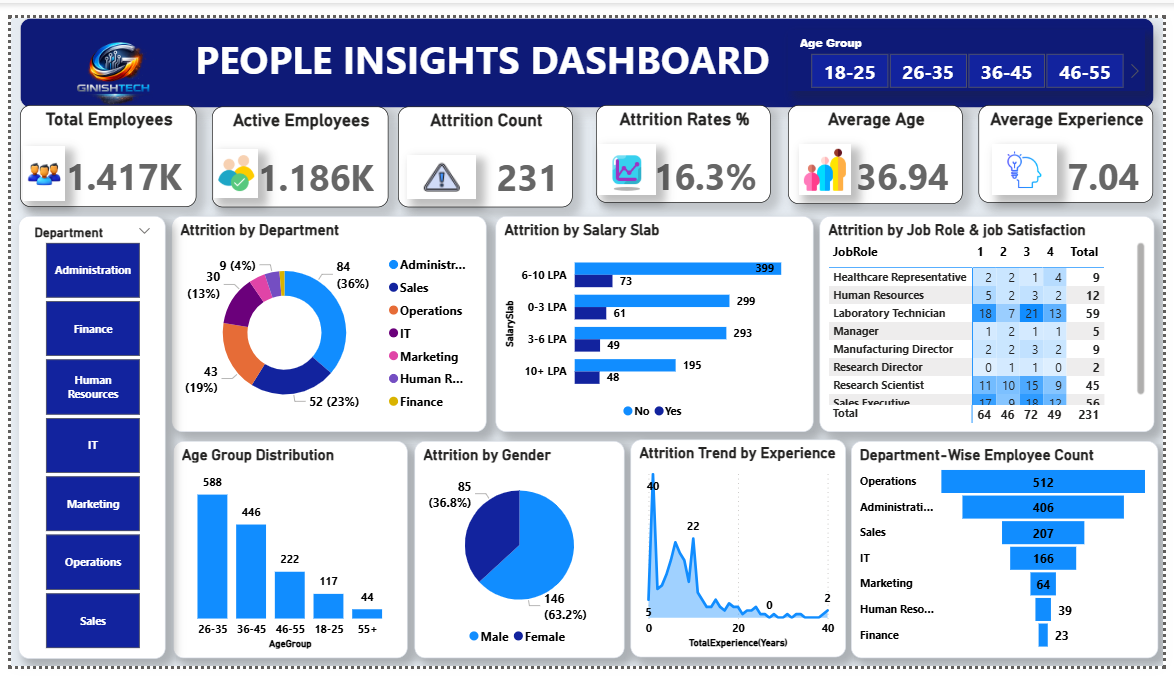

This screenshot's page, from the dashboard's own definition file:
{"tool":"powerbi","page":{"name":"DASHBOARD","canvas":[1280,720],"ordinal":0},"visuals":[{"type":"textbox","box":[9.5,0,1259.8,100.2],"z":0},{"type":"image","box":[8.6,0,215.5,119],"z":1000},{"type":"cardVisual","title":"Total Employees","fields":{"Data":["CountNonNull(HR_Analytics-4.EmpID)"]},"box":[9.7,97.2,195.9,113.3],"z":2000},{"type":"cardVisual","title":"Active Employees","fields":{"Data":["CountNonNull(HR_Analytics-4.EmployeeCount)"]},"box":[223.5,97.9,195.9,111.7],"z":3000},{"type":"cardVisual","title":"Attrition Count","fields":{"Data":["Sum(HR_Analytics-4.AttritionCount)"]},"box":[430.7,97.9,194.3,111.7],"z":4000},{"type":"cardVisual","title":"Attrition Rates %","fields":{"Data":["HR_Analytics-4.Attrition Rates %"]},"box":[649.3,97.2,194.3,108.5],"z":5000},{"type":"cardVisual","title":"Average Age","fields":{"Data":["Avg(HR_Analytics-4.Age)"]},"box":[863,97.2,194.3,110.1],"z":6000},{"type":"cardVisual","title":"Average Experience","fields":{"Data":["Avg(HR_Analytics-4.YearsatCompany)"]},"box":[1075.2,97.2,194.3,108.5],"z":7000},{"type":"image","box":[225.1,145.7,50.2,55.1],"z":8000},{"type":"image","box":[875,140,58.3,56.7],"z":9000},{"type":"image","box":[440,151.7,76.7,50],"z":10000},{"type":"image","box":[651.7,140,65,56.7],"z":11000},{"type":"image","box":[1090,140,71.7,56.7],"z":12000},{"type":"image","box":[13,140.9,47,61.5],"z":13000},{"type":"donutChart","title":"Attrition by Department","fields":{"Category":["HR_Analytics-4.Department"],"Y":["Sum(HR_Analytics-4.AttritionCount)"]},"box":[178.3,220,350,240],"z":14000},{"type":"clusteredBarChart","title":"Attrition by Salary Slab","fields":{"Y":["CountNonNull(HR_Analytics-4.EmpID)"],"Category":["HR_Analytics-4.SalarySlab"],"Series":["HR_Analytics-4.Attrition"]},"box":[538.3,220,353.3,240],"z":15000},{"type":"pivotTable","title":"Attrition by Job Role & job Satisfaction ","fields":{"Rows":["HR_Analytics-4.JobRole"],"Columns":["HR_Analytics-4.JobSatisfaction"],"Values":["Sum(HR_Analytics-4.AttritionCount)"]},"box":[898.3,220,371.7,240],"z":16000},{"type":"columnChart","title":"Age Group Distribution","fields":{"Category":["HR_Analytics-4.AgeGroup"],"Y":["Sum(HR_Analytics-4.EmployeeCount)"]},"box":[179.7,469.6,260.7,241.3],"z":17000},{"type":"pieChart","title":"Attrition by Gender","fields":{"Category":["HR_Analytics-4.Gender"],"Y":["Sum(HR_Analytics-4.AttritionCount)"]},"box":[448.5,469.6,233.2,241.3],"z":18000},{"type":"areaChart","title":"Attrition Trend by Experience","fields":{"Y":["Sum(HR_Analytics-4.AttritionCount)"],"Category":["HR_Analytics-4.TotalExperience(Years)"]},"box":[689,469,239,242],"z":19000},{"type":"funnel","title":"Department-Wise Employee Count","fields":{"Category":["HR_Analytics-4.Department"],"Y":["CountNonNull(HR_Analytics-4.EmpID)"]},"box":[932.7,469.6,341.7,241.3],"z":20000},{"type":"slicer","fields":{"Values":["HR_Analytics-4.Department"]},"box":[8.1,220.2,163.5,492.2],"z":21000},{"type":"slicer","fields":{"Values":["HR_Analytics-4.AgeGroup"]},"box":[863,13,396.7,68],"z":22000}]}

Visuals, with their boxes in screenshot pixels (x1, y1, x2, y2), scaled from the page's 1280x720 canvas onto the 1174x676 screenshot:
textbox: BBox(9, 0, 1164, 94)
image: BBox(8, 0, 206, 112)
"Total Employees" cardVisual: BBox(9, 91, 189, 198)
"Active Employees" cardVisual: BBox(205, 92, 385, 197)
"Attrition Count" cardVisual: BBox(395, 92, 573, 197)
"Attrition Rates %" cardVisual: BBox(596, 91, 774, 193)
"Average Age" cardVisual: BBox(792, 91, 970, 195)
"Average Experience" cardVisual: BBox(986, 91, 1164, 193)
image: BBox(206, 137, 253, 189)
image: BBox(803, 131, 856, 185)
image: BBox(404, 142, 474, 189)
image: BBox(598, 131, 657, 185)
image: BBox(1000, 131, 1065, 185)
image: BBox(12, 132, 55, 190)
"Attrition by Department" donutChart: BBox(164, 207, 485, 432)
"Attrition by Salary Slab" clusteredBarChart: BBox(494, 207, 818, 432)
"Attrition by Job Role & job Satisfaction " pivotTable: BBox(824, 207, 1165, 432)
"Age Group Distribution" columnChart: BBox(165, 441, 404, 667)
"Attrition by Gender" pieChart: BBox(411, 441, 625, 667)
"Attrition Trend by Experience" areaChart: BBox(632, 440, 851, 668)
"Department-Wise Employee Count" funnel: BBox(855, 441, 1169, 667)
slicer - HR_Analytics-4.Department: BBox(7, 207, 157, 669)
slicer - HR_Analytics-4.AgeGroup: BBox(792, 12, 1155, 76)
